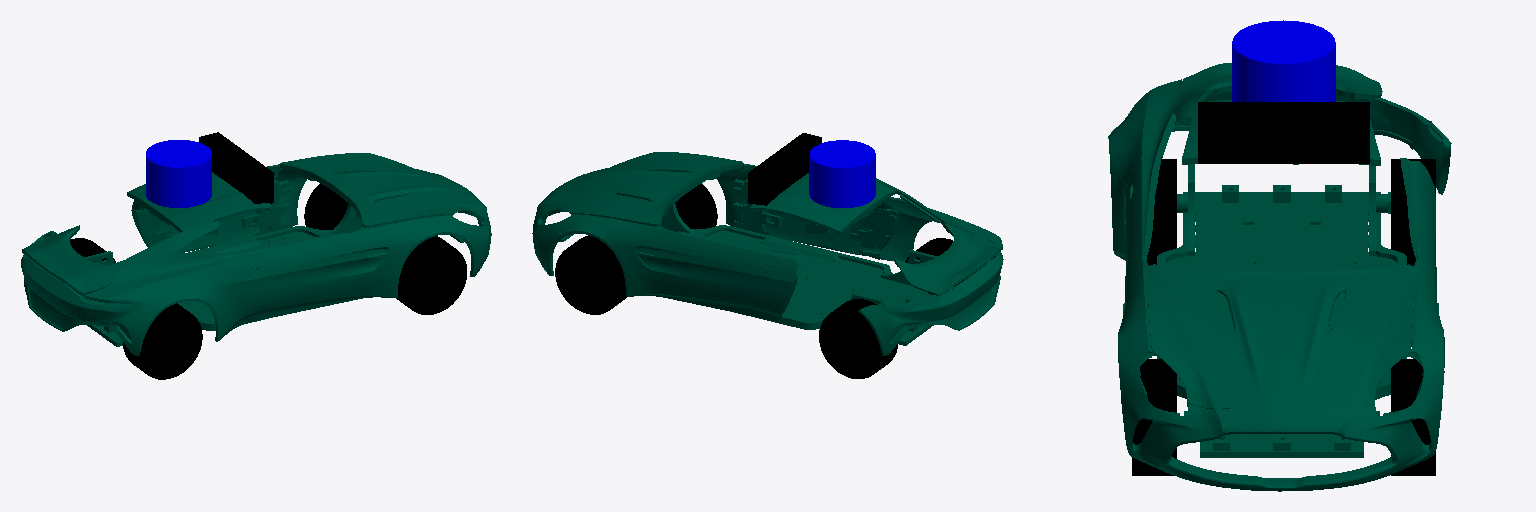
The robot description file, URDF, robot "Carros":
<?xml version="1.0"?>
<robot name="Carros">

  <material name="aston_martin_green"><color rgba="0.0 0.35 0.28 1.0"/></material>
  <material name="black"><color rgba="0 0 0 1"/></material>
  <material name="silver"><color rgba="0.75 0.75 0.75 1"/></material>
  <material name="blue"><color rgba="0 0 1 1"/></material>

  <link name="base_link">
    <visual>
      <origin xyz="-0.43 0.195 0.11" rpy="0 0 0"/>
      <geometry>
        <mesh filename="package://carro_simulacion/meshes/chasis-Assembly2.stl" scale="0.001 0.001 0.001"/>
      </geometry>
      <material name="aston_martin_green"/>
    </visual>
    <collision>
      <origin xyz="-0.43 0.195 0.11" rpy="0 0 0"/>
      <geometry>
        <mesh filename="package://carro_simulacion/meshes/chasis-Assembly2.stl" scale="0.001 0.001 0.001"/>
      </geometry>
    </collision>
    <inertial>
      <mass value="2.5"/> 
      <inertia ixx="0.01" ixy="0" ixz="0" iyy="0.01" iyz="0" izz="0.01"/>
    </inertial>
  </link>

  <link name="front_left_steering_link">
    <inertial><mass value="0.1"/><inertia ixx="0.001" ixy="0" ixz="0" iyy="0.001" iyz="0" izz="0.001"/></inertial>
  </link>
  <joint name="front_left_steering_joint" type="revolute">
    <parent link="base_link"/><child link="front_left_steering_link"/>
    <axis xyz="0 0 1"/><limit lower="-0.6" upper="0.6" effort="100" velocity="1.0"/>
    <origin xyz="0.135 0.075 0" rpy="0 0 0"/>
  </joint>

  <link name="front_left_wheel">
    <visual><origin xyz="0 0 0" rpy="1.5708 0 0"/><geometry><cylinder length="0.026" radius="0.034"/></geometry><material name="black"/></visual>
    <collision><origin xyz="0 0 0" rpy="1.5708 0 0"/><geometry><cylinder length="0.026" radius="0.034"/></geometry></collision>
    <inertial><mass value="0.2"/><inertia ixx="0.001" ixy="0" ixz="0" iyy="0.001" iyz="0" izz="0.001"/></inertial>
  </link>
  <joint name="front_left_wheel_joint" type="continuous">
    <parent link="front_left_steering_link"/><child link="front_left_wheel"/>
    <axis xyz="0 1 0"/><origin xyz="0 0 0" rpy="0 0 0"/>
  </joint>

  <link name="front_right_steering_link">
    <inertial><mass value="0.1"/><inertia ixx="0.001" ixy="0" ixz="0" iyy="0.001" iyz="0" izz="0.001"/></inertial>
  </link>
  <joint name="front_right_steering_joint" type="revolute">
    <parent link="base_link"/><child link="front_right_steering_link"/>
    <axis xyz="0 0 1"/><limit lower="-0.6" upper="0.6" effort="100" velocity="1.0"/>
    <origin xyz="0.135 -0.075 0" rpy="0 0 0"/>
  </joint>

  <link name="front_right_wheel">
    <visual><origin xyz="0 0 0" rpy="1.5708 0 0"/><geometry><cylinder length="0.026" radius="0.034"/></geometry><material name="black"/></visual>
    <collision><origin xyz="0 0 0" rpy="1.5708 0 0"/><geometry><cylinder length="0.026" radius="0.034"/></geometry></collision>
    <inertial><mass value="0.2"/><inertia ixx="0.001" ixy="0" ixz="0" iyy="0.001" iyz="0" izz="0.001"/></inertial>
  </link>
  <joint name="front_right_wheel_joint" type="continuous">
    <parent link="front_right_steering_link"/><child link="front_right_wheel"/>
    <axis xyz="0 1 0"/><origin xyz="0 0 0" rpy="0 0 0"/>
  </joint>

  <link name="rear_left_wheel">
    <visual><origin xyz="0 0 0" rpy="1.5708 0 0"/><geometry><cylinder length="0.026" radius="0.034"/></geometry><material name="black"/></visual>
    <collision><origin xyz="0 0 0" rpy="1.5708 0 0"/><geometry><cylinder length="0.026" radius="0.034"/></geometry></collision>
    <inertial><mass value="0.2"/><inertia ixx="0.001" ixy="0" ixz="0" iyy="0.001" iyz="0" izz="0.001"/></inertial>
  </link>
  <joint name="rear_left_joint" type="continuous">
    <parent link="base_link"/><child link="rear_left_wheel"/>
    <axis xyz="0 1 0"/><origin xyz="-0.14 0.075 0" rpy="0 0 0"/>
  </joint>

  <link name="rear_right_wheel">
    <visual><origin xyz="0 0 0" rpy="1.5708 0 0"/><geometry><cylinder length="0.026" radius="0.034"/></geometry><material name="black"/></visual>
    <collision><origin xyz="0 0 0" rpy="1.5708 0 0"/><geometry><cylinder length="0.026" radius="0.034"/></geometry></collision>
    <inertial><mass value="0.2"/><inertia ixx="0.001" ixy="0" ixz="0" iyy="0.001" iyz="0" izz="0.001"/></inertial>
  </link>
  <joint name="rear_right_joint" type="continuous">
    <parent link="base_link"/><child link="rear_right_wheel"/>
    <axis xyz="0 1 0"/><origin xyz="-0.14 -0.075 0" rpy="0 0 0"/>
  </joint>

  <link name="lidar_link">
    <visual><geometry><cylinder radius="0.03" length="0.04"/></geometry><material name="blue"/></visual>
    <inertial><mass value="0.1"/><inertia ixx="0.001" ixy="0" ixz="0" iyy="0.001" iyz="0" izz="0.001"/></inertial>
  </link>
  <joint name="lidar_joint" type="fixed">
    <parent link="base_link"/><child link="lidar_link"/>
    <origin xyz="-0.08 0 0.12" rpy="0 0 0"/>
  </joint>

  <link name="camera_link">
    <visual><geometry><box size="0.02 0.1 0.03"/></geometry><material name="black"/></visual>
  </link>
  <joint name="camera_joint" type="fixed">
    <parent link="base_link"/><child link="camera_link"/>
    <origin xyz="-0.02 0 0.11" rpy="0 0 0"/>
  </joint>

  <link name="camera_link_optical"></link>
  <joint name="camera_optical_joint" type="fixed">
    <parent link="camera_link"/><child link="camera_link_optical"/>
    <origin xyz="0 0 0" rpy="-1.5708 0 -1.5708"/>
  </joint>

  <gazebo>
    <plugin filename="gz-sim-ackermann-steering-system" name="gz::sim::systems::AckermannSteering">
      <left_steering_joint>front_left_steering_joint</left_steering_joint>
      <right_steering_joint>front_right_steering_joint</right_steering_joint>
      <left_joint>rear_left_joint</left_joint>
      <right_joint>rear_right_joint</right_joint>
      <wheel_separation>0.15</wheel_separation>
      <wheel_radius>0.034</wheel_radius>
      <topic>/model/carro/cmd_vel</topic>
      <odom_topic>/odom</odom_topic>
      <frame_id>odom</frame_id>
      <child_frame_id>base_link</child_frame_id>
    </plugin>
  </gazebo>

  <gazebo reference="base_link">
    <material>
      <ambient>0.0 0.2 0.15 1.0</ambient>
      <diffuse>0.0 0.35 0.28 1.0</diffuse>
      <specular>0.8 0.8 0.8 1.0</specular>
      <pbr><metal><metalness>0.7</metalness><roughness>0.2</roughness></metal></pbr>
    </material>
  </gazebo>

  <gazebo reference="front_left_wheel"><mu1>0.9</mu1><mu2>0.9</mu2><material>Gazebo/Black</material></gazebo>
  <gazebo reference="front_right_wheel"><mu1>0.9</mu1><mu2>0.9</mu2><material>Gazebo/Black</material></gazebo>
  <gazebo reference="rear_left_wheel"><mu1>0.9</mu1><mu2>0.9</mu2><material>Gazebo/Black</material></gazebo>
  <gazebo reference="rear_right_wheel"><mu1>0.9</mu1><mu2>0.9</mu2><material>Gazebo/Black</material></gazebo>

  <gazebo reference="lidar_link">
    <sensor name="gpu_lidar" type="gpu_lidar">
      <pose>0 0 0 0 0 0</pose>
      <always_on>1</always_on>
      <visualize>true</visualize>
      <update_rate>10</update_rate>
      <lidar>
        <scan>
          <horizontal>
            <samples>640</samples>
            <resolution>1</resolution>
            <min_angle>-3.14159</min_angle>
            <max_angle>3.14159</max_angle>
          </horizontal>
        </scan>
        <range>
          <min>0.12</min> <max>10.0</max>
          <resolution>0.01</resolution>
        </range>
      </lidar>
      <topic>/model/carro/scan</topic> 
      <gz_frame_id>lidar_link</gz_frame_id>
    </sensor>
  </gazebo>

  <gazebo reference="camera_link">
    <sensor name="rgbd_camera" type="rgbd">
      <always_on>1</always_on>
      <update_rate>30</update_rate>
      <visualize>true</visualize>
      <topic>camera</topic>
      <camera>
        <horizontal_fov>1.288</horizontal_fov> <image>
          <width>640</width>
          <height>480</height>
          <format>R8G8B8</format>
        </image>
        <clip><near>0.2</near><far>4.0</far></clip>
      </camera>
      <gz_frame_id>camera_link_optical</gz_frame_id>
    </sensor>
  </gazebo>

</robot>

--- What the picture shows (computed from the rendered views, not written in the file) ---
Views: 3 orthographic renders of the robot side by side, from view 1: azimuth 30°, elevation 25°; view 2: azimuth 150°, elevation 25°; view 3: azimuth 270°, elevation 25°.
Model Carros with 10 links and 9 joints (2 revolute, 4 continuous, 3 fixed), rooted at base_link, posed every joint at zero.
Links seen in each view (by area): view 1: base_link, lidar_link, front_right_wheel, rear_right_wheel, camera_link, front_left_wheel; view 2: base_link, front_left_wheel, lidar_link, rear_left_wheel, camera_link, front_right_wheel; view 3: base_link, camera_link, lidar_link, front_right_wheel, rear_right_wheel, front_left_wheel, rear_left_wheel.
Link boxes in pixels (x1,y1,x2,y2): base_link: (21, 153, 491, 355); lidar_link: (146, 140, 211, 207); front_right_wheel: (396, 236, 466, 314); rear_right_wheel: (123, 303, 202, 379); camera_link: (199, 132, 273, 203); front_left_wheel: (304, 183, 347, 229); base_link: (532, 152, 1003, 355); front_left_wheel: (555, 235, 626, 314); lidar_link: (809, 140, 875, 207); rear_left_wheel: (819, 299, 897, 378); camera_link: (748, 133, 821, 205); front_right_wheel: (675, 183, 717, 228); base_link: (1108, 63, 1451, 491); camera_link: (1198, 102, 1369, 163); lidar_link: (1232, 20, 1335, 101); front_right_wheel: (1132, 359, 1176, 475); rear_right_wheel: (1147, 159, 1176, 265); front_left_wheel: (1391, 359, 1435, 475); rear_left_wheel: (1391, 159, 1435, 265).
Size in the robot's own frame: 0.445 by 0.1991 by 0.174 metres.
1 mesh visuals loaded from 1 distinct referenced files (1 binary STL).
